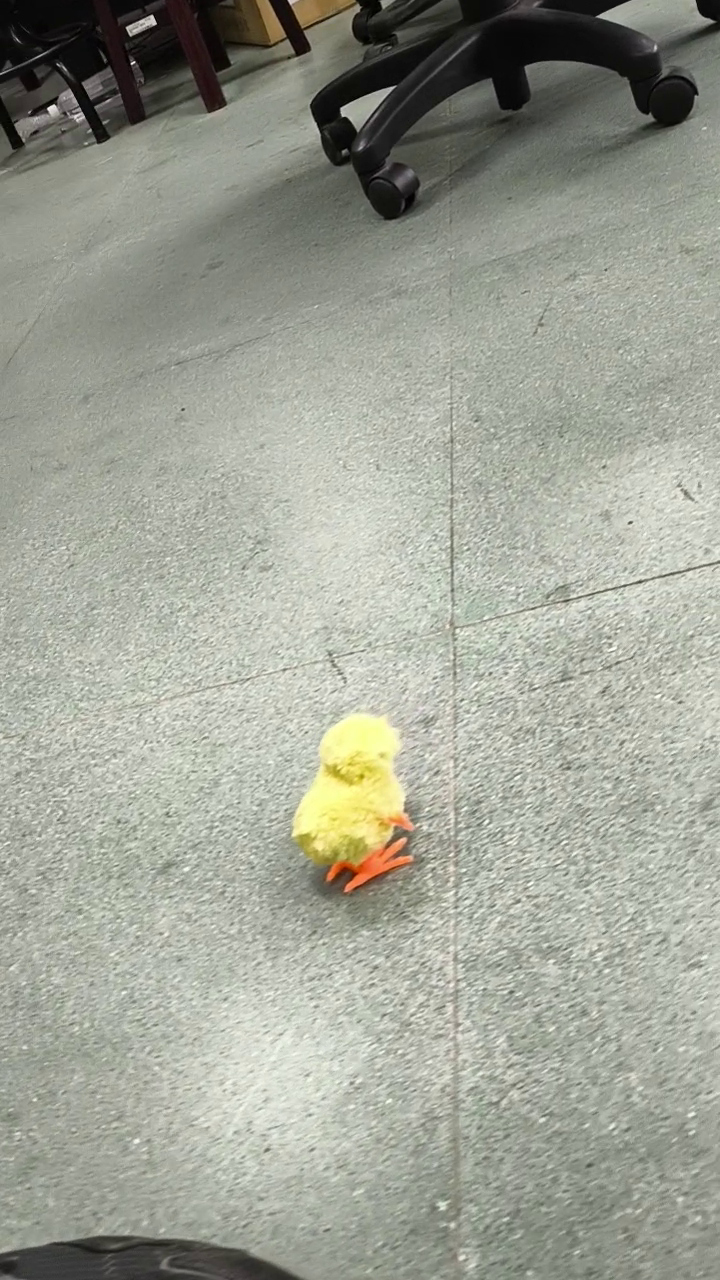yellow chicken: (285, 708, 419, 897)
